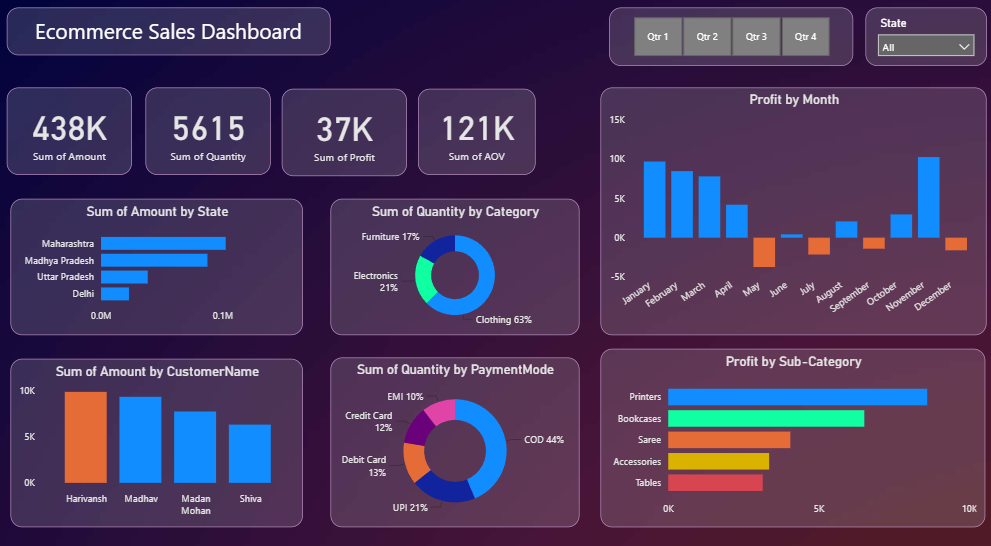

The dashboard page shown, as its layout file describes it:
{"tool":"powerbi","page":{"name":"Page 1","canvas":[1280,720],"ordinal":0},"visuals":[{"type":"columnChart","title":"Profit by Month","fields":{"Y":["Sum(Details.Profit)"],"Category":["Orders.Order Date.Variation.Date Hierarchy.Month"]},"box":[773,124.1,491.5,314.9],"z":0},{"type":"textbox","box":[17.5,22.3,411.9,60.4],"z":1000},{"type":"barChart","title":"Profit by Sub-Category","fields":{"Category":["Details.Sub-Category"],"Y":["Sum(Details.Profit)"]},"box":[773,456.5,489.9,227.4],"z":2000},{"type":"donutChart","fields":{"Category":["Details.Category"],"Y":["Sum(Details.Quantity)"]},"box":[429.4,265.6,316.5,173.4],"z":3000},{"type":"donutChart","fields":{"Y":["Sum(Details.Quantity)"],"Category":["Details.PaymentMode"]},"box":[429.4,467.6,316.5,216.3],"z":4000},{"type":"card","fields":{"Values":["Sum(Details.Amount)"]},"box":[17.8,124.8,159.1,111.1],"z":5000},{"type":"card","fields":{"Values":["Sum(Details.Quantity)"]},"box":[193.4,124.8,159.1,111.1],"z":6000},{"type":"card","fields":{"Values":["Sum(Details.Profit)"]},"box":[367.7,126.2,159.1,111.1],"z":7000},{"type":"card","fields":{"Values":["Sum(Details.AOV)"]},"box":[540.6,126.2,149.5,109.8],"z":8000},{"type":"barChart","title":"Sum of Amount by State","fields":{"Category":["Orders.State"],"Y":["Sum(Details.Amount)"]},"box":[22.3,265.6,372.2,173.4],"z":9000},{"type":"columnChart","fields":{"Category":["Orders.CustomerName"],"Y":["Sum(Details.Amount)"]},"box":[22.3,469.2,372.2,214.7],"z":10000},{"type":"slicer","fields":{"Values":["Orders.Order Date.Variation.Date Hierarchy.Quarter"]},"box":[784.1,22.3,310.1,74.8],"z":11000},{"type":"slicer","fields":{"Values":["Orders.State"]},"box":[1110.1,22.3,154.3,74.8],"z":12000}]}

Visuals, with their boxes in screenshot pixels (x1, y1, x2, y2), scaled from the page's 1280x720 canvas onto the 991x546 screenshot:
"Profit by Month" columnChart: detection(598, 94, 979, 333)
textbox: detection(14, 17, 332, 63)
"Profit by Sub-Category" barChart: detection(598, 346, 978, 519)
donutChart - Details.Category x Sum(Details.Quantity): detection(332, 201, 577, 333)
donutChart - Sum(Details.Quantity) x Details.PaymentMode: detection(332, 355, 577, 519)
card - Sum(Details.Amount): detection(14, 95, 137, 179)
card - Sum(Details.Quantity): detection(150, 95, 273, 179)
card - Sum(Details.Profit): detection(285, 96, 408, 180)
card - Sum(Details.AOV): detection(419, 96, 534, 179)
"Sum of Amount by State" barChart: detection(17, 201, 305, 333)
columnChart - Orders.CustomerName x Sum(Details.Amount): detection(17, 356, 305, 519)
slicer - Orders.Order Date.Variation.Date Hierarchy.Quarter: detection(607, 17, 847, 74)
slicer - Orders.State: detection(859, 17, 979, 74)
